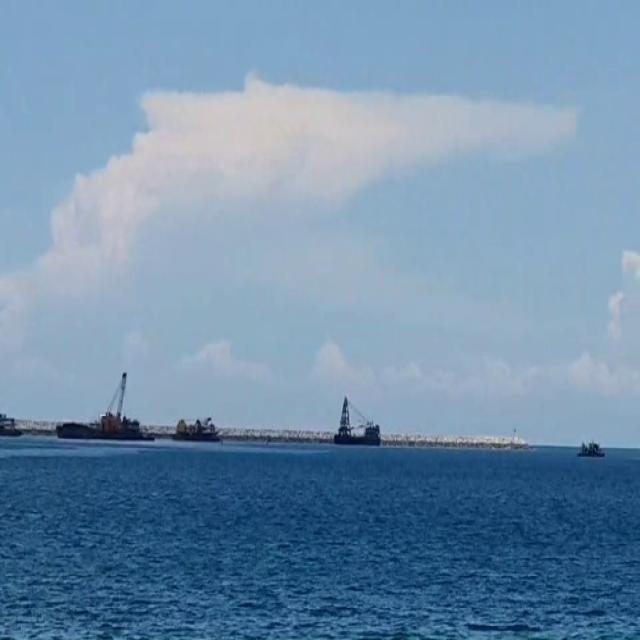civilianship: (48, 373, 157, 468), (328, 381, 397, 448), (170, 401, 228, 459), (3, 377, 23, 445), (572, 430, 611, 463)
